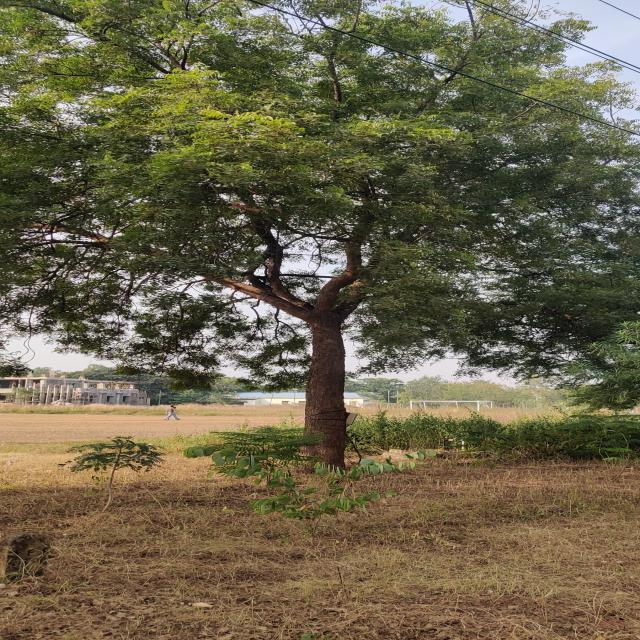Neem Tree: (51, 46, 591, 389)
